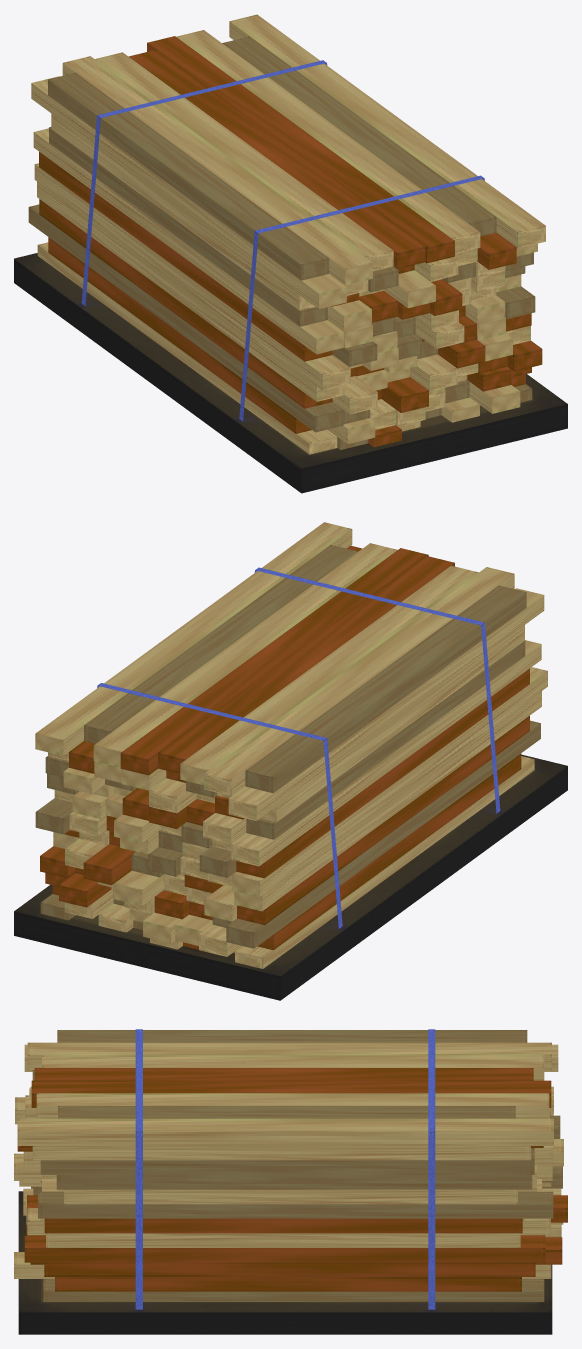
Rendered from woodstack.glb.
3 views of the same model, one above another, from view 1: azimuth 30°, elevation 25°; view 2: azimuth 150°, elevation 25°; view 3: azimuth 270°, elevation 25° (orthographic). The views are drawn at different scales.
Parts seen in each view (by area): view 1: MetalBase, Boards.012, Boards.096, Boards.024, Boards.060, Boards.072, Boards.048, Boards.036, Boards.084, Boards.011, Boards.006, Boards.008 (+30 smaller); view 2: MetalBase, Boards.012, Boards.096, Boards.024, Boards.060, Boards.072, Boards.036, Boards.048, Boards.084, Boards.011, Boards.008, Boards.003 (+34 smaller); view 3: MetalBase, Boards.096, Boards.091, Boards.088, Boards.024, Boards.090, Boards.095, Boards.094, Boards.072, Boards.060, Boards.087, Boards.092 (+15 smaller).
Boxes of the visible parts, <box> form: MetalBase: <box>14,253,567,493</box>; Boards.012: <box>48,72,329,280</box>; Boards.096: <box>229,14,545,248</box>; Boards.024: <box>62,56,372,285</box>; Boards.060: <box>147,36,454,263</box>; Boards.072: <box>176,30,480,253</box>; Boards.048: <box>128,49,425,268</box>; Boards.036: <box>95,52,393,271</box>; Boards.084: <box>222,36,496,236</box>; Boards.011: <box>31,76,346,309</box>; Boards.006: <box>34,163,350,390</box>; Boards.008: <box>33,128,344,354</box>; MetalBase: <box>14,754,567,1000</box>; Boards.012: <box>245,585,526,793</box>; Boards.096: <box>35,522,352,755</box>; Boards.024: <box>204,567,514,796</box>; Boards.060: <box>120,548,428,775</box>; Boards.072: <box>93,543,397,767</box>; Boards.036: <box>180,565,478,785</box>; Boards.048: <box>158,556,454,773</box>; Boards.084: <box>84,545,358,743</box>; Boards.011: <box>228,588,544,820</box>; Boards.008: <box>231,640,541,866</box>; Boards.003: <box>226,720,540,948</box>; MetalBase: <box>18,1191,552,1334</box>; Boards.096: <box>18,1118,553,1145</box>; Boards.091: <box>38,1191,553,1218</box>; Boards.088: <box>24,1235,545,1262</box>; Boards.024: <box>27,1042,551,1069</box>; Boards.090: <box>44,1218,522,1233</box>; Boards.095: <box>32,1146,530,1160</box>; Boards.094: <box>40,1148,534,1174</box>; Boards.072: <box>36,1093,549,1118</box>; Boards.060: <box>31,1080,551,1107</box>; Boards.087: <box>44,1262,535,1276</box>; Boards.092: <box>64,1189,517,1204</box>.
Bounding box in the file's own units: 8.06 × 6.04 × 15.65.
5 materials, 5 textured.
